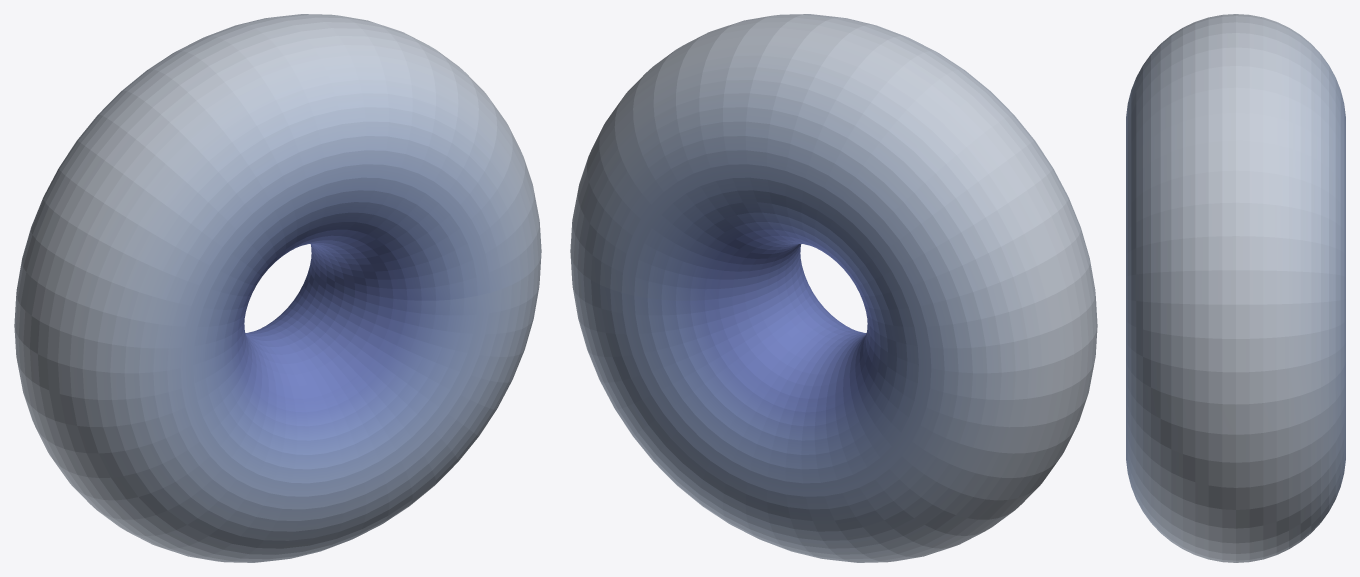
3 views of the same model, side by side, from view 1: azimuth 30°, elevation 25°; view 2: azimuth 150°, elevation 25°; view 3: azimuth 270°, elevation 25° (orthographic). The views are drawn at different scales.
Visible parts, largest first — view 1: world; view 2: world; view 3: world.
Boxes of the visible parts, x1,y1,x2,y2 form: world: (14, 14, 541, 562); world: (570, 14, 1097, 562); world: (1126, 14, 1345, 562).
Size of the model in its own units: 18.93 by 18.9 by 7.59.
